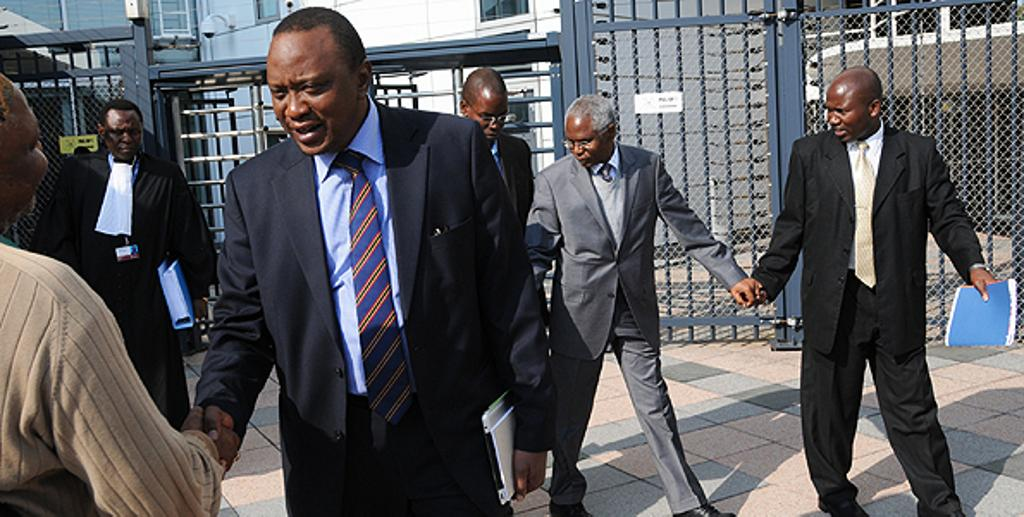face: (266, 46, 355, 155), (2, 87, 47, 223), (825, 90, 868, 141), (468, 91, 507, 146), (565, 117, 607, 166), (105, 113, 141, 161)
